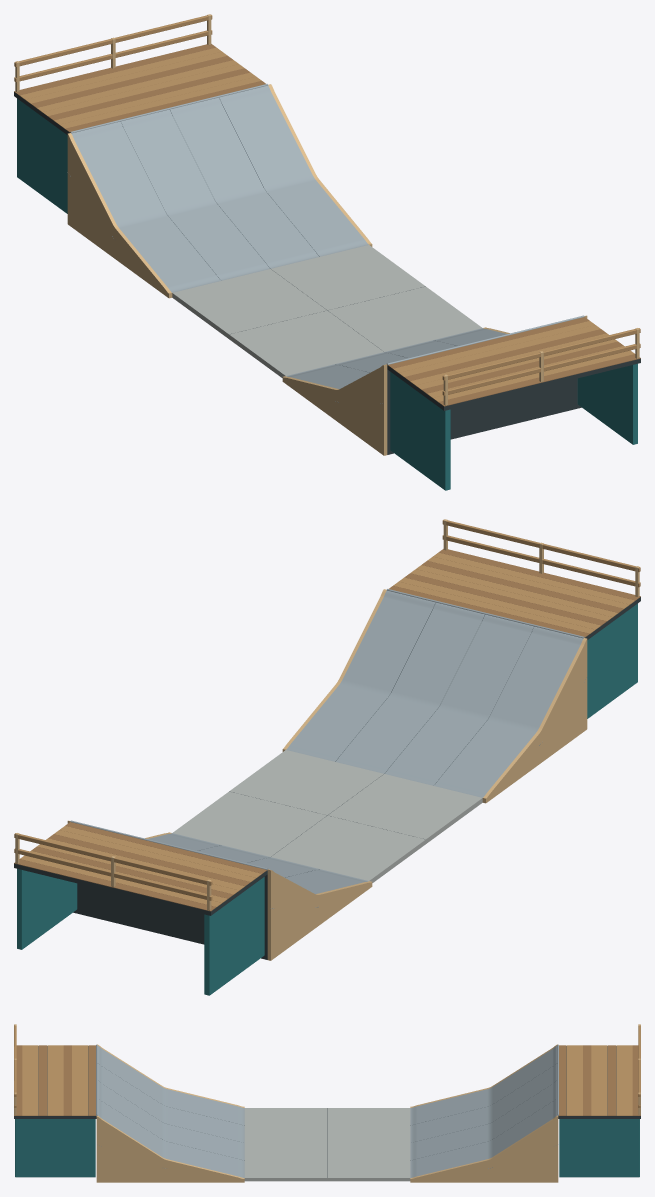
File: skate_halfpipe.glb
The picture shows the model from 3 angles, top to bottom: view 1: azimuth 30°, elevation 25°; view 2: azimuth 150°, elevation 25°; view 3: azimuth 270°, elevation 25°; orthographic projection. The views are drawn at different scales.
Visible parts, largest first — view 1: VISUAL__back_ride, VISUAL__flat, VISUAL__front_deck_support, VISUAL__back_sides_left, VISUAL__front_sides_left, VISUAL__front_structure, VISUAL__back_deck_support, VISUAL__front_deck_support.001, VISUAL__front_ride, VISUAL__front_deck_solid, VISUAL__front_deck_plank.009, VISUAL__back_deck_plank.002 (+22 smaller); view 2: VISUAL__front_ride, VISUAL__flat, VISUAL__back_deck_support, VISUAL__front_sides_left, VISUAL__back_sides_left, VISUAL__back_structure, VISUAL__front_deck_support, VISUAL__back_deck_support.001, VISUAL__back_ride, VISUAL__back_deck_solid, VISUAL__back_deck_plank, VISUAL__front_deck_plank.007 (+22 smaller); view 3: VISUAL__flat, VISUAL__back_ride, VISUAL__front_ride, VISUAL__back_deck_support.001, VISUAL__front_deck_support.001, VISUAL__front_sides_right, VISUAL__back_sides_right, VISUAL__back_deck_plank.001, VISUAL__back_deck_plank.002, VISUAL__back_deck_plank.004, VISUAL__back_deck_plank.005, VISUAL__back_deck_plank.006 (+19 smaller).
Part boxes in pixels (x1,y1,x2,y2): VISUAL__back_ride: [71, 85, 368, 292]; VISUAL__flat: [172, 245, 481, 377]; VISUAL__front_deck_support: [390, 372, 450, 490]; VISUAL__back_sides_left: [67, 133, 172, 298]; VISUAL__front_sides_left: [282, 364, 387, 455]; VISUAL__front_structure: [387, 369, 581, 454]; VISUAL__back_deck_support: [17, 98, 67, 213]; VISUAL__front_deck_support.001: [577, 363, 637, 444]; VISUAL__front_ride: [286, 328, 506, 389]; VISUAL__front_deck_solid: [387, 358, 640, 410]; VISUAL__front_deck_plank.009: [438, 354, 640, 406]; VISUAL__back_deck_plank.002: [25, 51, 227, 103]; VISUAL__front_ride: [286, 590, 583, 797]; VISUAL__flat: [173, 750, 482, 882]; VISUAL__back_deck_support: [204, 877, 264, 995]; VISUAL__front_sides_left: [482, 638, 587, 803]; VISUAL__back_sides_left: [267, 869, 372, 960]; VISUAL__back_structure: [73, 874, 267, 959]; VISUAL__front_deck_support: [587, 603, 637, 718]; VISUAL__back_deck_support.001: [17, 868, 77, 949]; VISUAL__back_ride: [148, 833, 368, 894]; VISUAL__back_deck_solid: [14, 863, 267, 915]; VISUAL__back_deck_plank: [14, 859, 216, 911]; VISUAL__front_deck_plank.007: [427, 556, 629, 608]; VISUAL__flat: [244, 1108, 410, 1181]; VISUAL__back_ride: [410, 1046, 557, 1177]; VISUAL__front_ride: [97, 1046, 244, 1177]; VISUAL__back_deck_support.001: [559, 1119, 639, 1177]; VISUAL__front_deck_support.001: [15, 1119, 95, 1177]; VISUAL__front_sides_right: [96, 1115, 244, 1182]; VISUAL__back_sides_right: [410, 1115, 558, 1182]; VISUAL__back_deck_plank.001: [624, 1045, 632, 1115]; VISUAL__back_deck_plank.002: [616, 1045, 624, 1115]; VISUAL__back_deck_plank.004: [599, 1045, 607, 1115]; VISUAL__back_deck_plank.005: [591, 1045, 599, 1115]; VISUAL__back_deck_plank.006: [583, 1045, 591, 1115].
Size of the model in its own units: 6.21 by 3.5 by 22.71.
